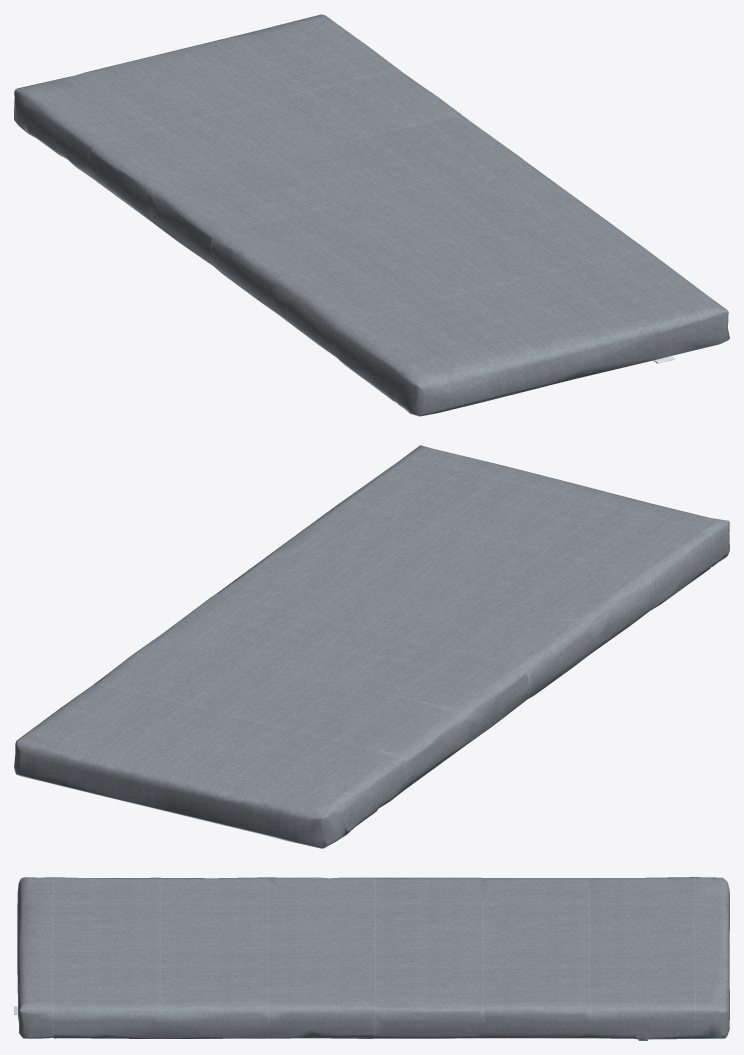
File: agotnes_materac_piankowy_00480858.glb
The picture shows the model from 3 angles, top to bottom: view 1: azimuth 30°, elevation 25°; view 2: azimuth 150°, elevation 25°; view 3: azimuth 270°, elevation 25°; orthographic projection. The views are drawn at different scales.
Parts seen in each view (by area): view 1: agotnes_materac_piankowy_00480858; view 2: agotnes_materac_piankowy_00480858; view 3: agotnes_materac_piankowy_00480858.
Boxes of the visible parts, left/top/right/bottom form: agotnes_materac_piankowy_00480858: left=14, top=14, right=729, bottom=416; agotnes_materac_piankowy_00480858: left=14, top=445, right=729, bottom=848; agotnes_materac_piankowy_00480858: left=14, top=877, right=729, bottom=1040.
Bounding box in the file's own units: 0.8998 × 0.1036 × 2.01.
1 material, 1 textured.
